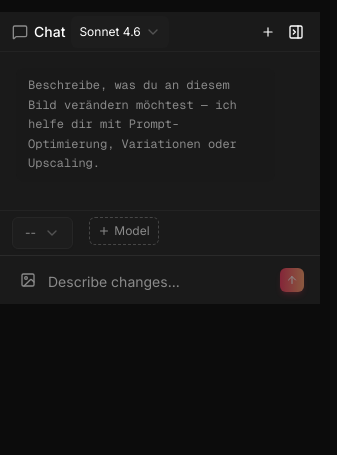
CanvasChatPanel (Backend-Integration) › AC-9: should show error bot message with description when error SSE event is received
Step 1. Type "test error" into the text box with test id "chat-input-textarea" → (160, 282), box [48,272,272,292]
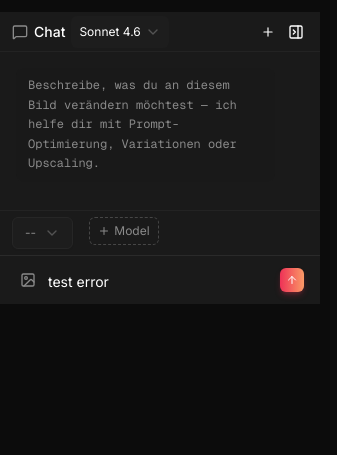
Step 2. Click the button with test id "send-btn" → (292, 280), box [280,268,304,292]
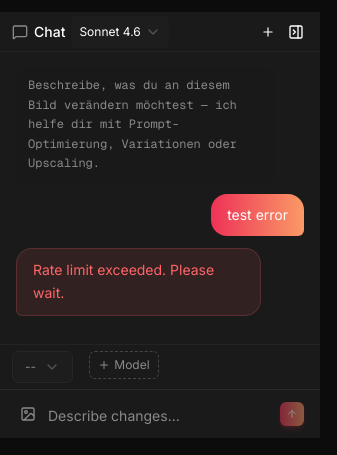
Check: the text box with test id "chat-input-textarea" is enabled, box [48,406,272,426]
Check: the element with test id "bot-message-error" is shown, box [16,248,261,316]
Check: the element with test id "bot-message-error" reads "Rate limit exceeded. Please wait.", box [33,261,218,301]
